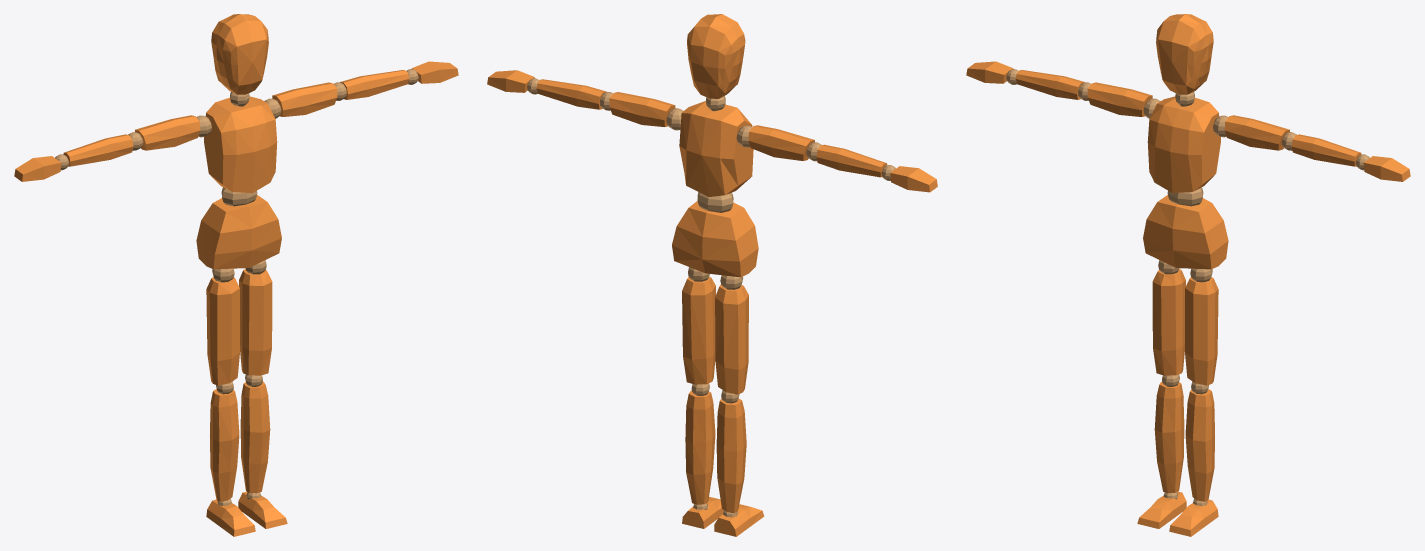
The model's file is mannequin.obj.
3 views of the same model, side by side, from view 1: azimuth 30°, elevation 25°; view 2: azimuth 150°, elevation 25°; view 3: azimuth 330°, elevation 25° (orthographic).
Visible parts, largest first — view 1: Cube; view 2: Cube; view 3: Cube.
Boxes of the visible parts, x1,y1,x2,y2 form: Cube: [14, 14, 458, 536]; Cube: [487, 14, 937, 536]; Cube: [966, 14, 1410, 536].
Size of the model in its own units: 4.05 by 4.44 by 0.5629.
